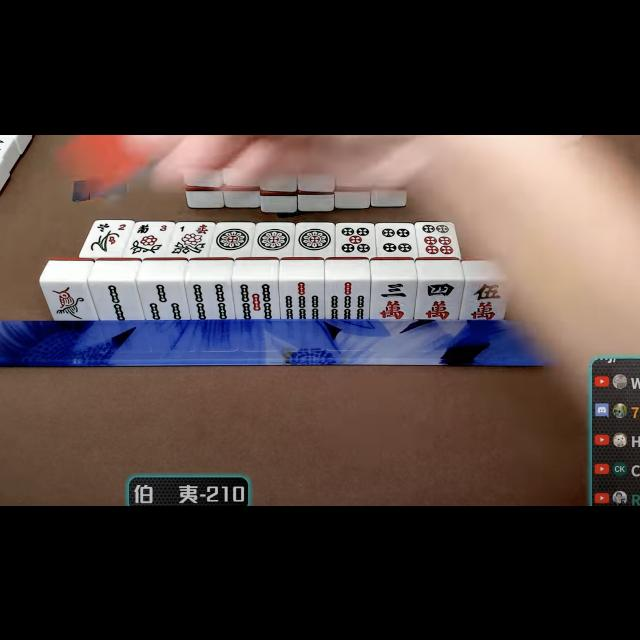b1: (45, 280, 91, 318)
b2: (92, 280, 140, 320)
b3: (142, 280, 185, 320)
b4: (188, 279, 232, 319)
b5: (234, 280, 280, 318)
b7: (326, 280, 368, 320), (281, 280, 325, 318)
c3: (372, 279, 414, 321)
c4: (418, 280, 459, 320)
c5: (463, 280, 505, 320)
d1: (295, 222, 333, 255), (214, 222, 252, 255), (255, 222, 293, 255)
d4: (376, 222, 416, 255)
d5: (336, 222, 374, 254)
d6: (418, 222, 458, 256)
f2: (90, 219, 130, 233)
f3: (132, 220, 172, 236)
s1: (174, 220, 212, 236)
